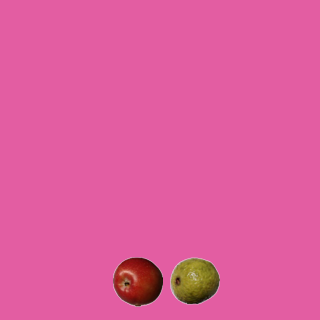Apple Braeburn: (112, 256, 162, 306)
Guava: (169, 255, 219, 305)
